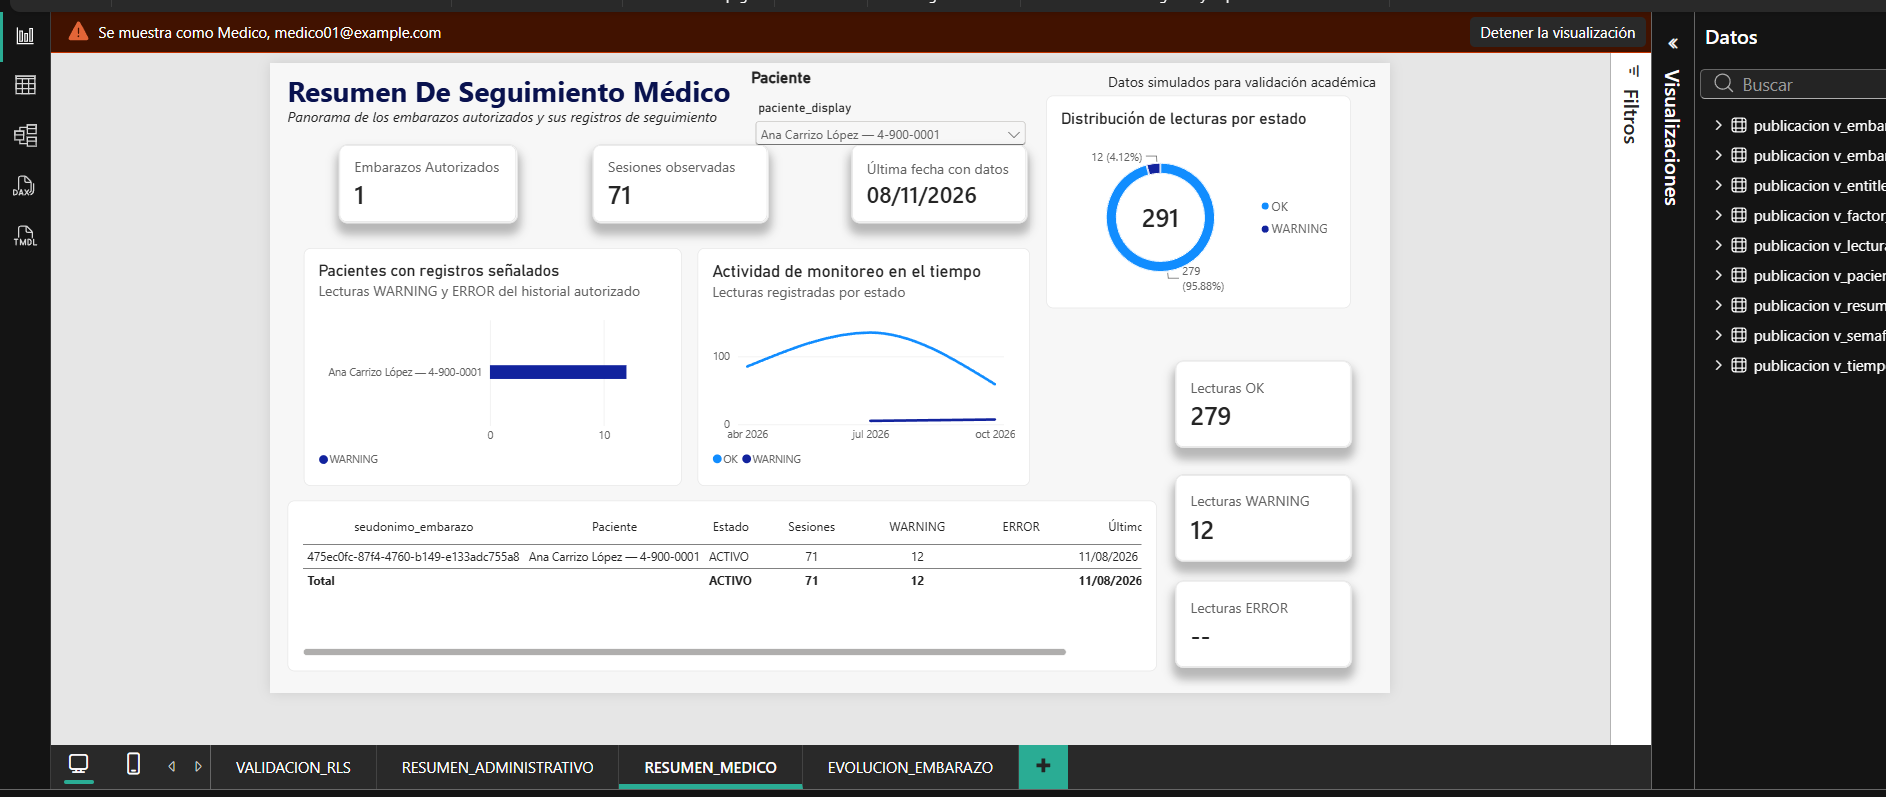

Layout of this report page (visuals, bound fields, positions):
{"tool":"powerbi","page":{"name":"RESUMEN_MEDICO","canvas":[1280,720],"ordinal":2},"visuals":[{"type":"textbox","box":[20,10,644,54],"z":0},{"type":"textbox","box":[20,50,644,30],"z":1000},{"type":"textbox","box":[930,10,334,38],"z":2000},{"type":"cardVisual","fields":{"Data":["publicacion v_embarazo.Embarazos visibles"]},"box":[78.2,93.3,204.5,90.6],"z":3000},{"type":"cardVisual","fields":{"Data":["publicacion v_lectura.Lecturas WARNING"]},"box":[1034,470,202,100],"z":4000},{"type":"cardVisual","fields":{"Data":["publicacion v_lectura.Lecturas ERROR"]},"box":[1034,592,202,100],"z":5000},{"type":"cardVisual","fields":{"Data":["publicacion v_lectura.Sesiones observadas"]},"box":[369.1,93.3,201.7,90.6],"z":6000},{"type":"cardVisual","fields":{"Data":["publicacion v_lectura.Última fecha con datos"]},"box":[664.2,93.3,201.7,90.6],"z":7000},{"type":"cardVisual","fields":{"Data":["publicacion v_lectura.Lecturas OK"]},"box":[1034,340,202,100],"z":8000},{"type":"donutChart","title":"Distribución de lecturas por estado","fields":{"Category":["publicacion v_lectura.codigo_semaforo"],"Y":["publicacion v_lectura.Lecturas"]},"box":[886.7,36.7,348.3,243.3],"z":9000},{"type":"barChart","title":"Pacientes con registros señalados","fields":{"Category":["publicacion v_paciente_medico.paciente_display"],"Series":["publicacion v_lectura.codigo_semaforo"],"Y":["publicacion v_lectura.Lecturas"]},"box":[38,212,432,272],"z":10000},{"type":"tableEx","fields":{"Values":["publicacion v_embarazo.seudonimo_embarazo","publicacion v_paciente_medico.paciente_display","publicacion v_embarazo.estado_embarazo","publicacion v_lectura.Sesiones observadas","publicacion v_lectura.Lecturas WARNING","publicacion v_lectura.Lecturas ERROR","publicacion v_lectura.Última fecha con datos"]},"box":[20,500,993.3,195],"z":11000},{"type":"lineChart","title":"Actividad de monitoreo en el tiempo","fields":{"Category":["publicacion v_lectura.fecha_captura.Variación.Jerarquía de fechas.Año","publicacion v_lectura.fecha_captura.Variación.Jerarquía de fechas.Trimestre","publicacion v_lectura.fecha_captura.Variación.Jerarquía de fechas.Mes","publicacion v_lectura.fecha_captura.Variación.Jerarquía de fechas.Día"],"Series":["publicacion v_lectura.codigo_semaforo"],"Y":["publicacion v_lectura.Lecturas"]},"box":[488.3,211.7,380,271.7],"z":12000},{"type":"slicer","title":"Paciente","fields":{"Values":["publicacion v_paciente_medico.paciente_display"]},"box":[550.3,5.5,318.4,87.8],"z":13000}]}

Visuals, with their boxes on the page's 1280x720 design canvas (x1, y1, x2, y2). These are canvas units, not pixel positions in the 1886x797 screenshot, which may show the page scaled, cropped or inside an application window:
textbox: <box>20,10,664,64</box>
textbox: <box>20,50,664,80</box>
textbox: <box>930,10,1264,48</box>
cardVisual - publicacion v_embarazo.Embarazos visibles: <box>78,93,283,184</box>
cardVisual - publicacion v_lectura.Lecturas WARNING: <box>1034,470,1236,570</box>
cardVisual - publicacion v_lectura.Lecturas ERROR: <box>1034,592,1236,692</box>
cardVisual - publicacion v_lectura.Sesiones observadas: <box>369,93,571,184</box>
cardVisual - publicacion v_lectura.Última fecha con datos: <box>664,93,866,184</box>
cardVisual - publicacion v_lectura.Lecturas OK: <box>1034,340,1236,440</box>
"Distribución de lecturas por estado" donutChart: <box>887,37,1235,280</box>
"Pacientes con registros señalados" barChart: <box>38,212,470,484</box>
tableEx - publicacion v_embarazo.seudonimo_embarazo x publicacion v_paciente_medico.paciente_display: <box>20,500,1013,695</box>
"Actividad de monitoreo en el tiempo" lineChart: <box>488,212,868,483</box>
"Paciente" slicer: <box>550,6,869,93</box>
